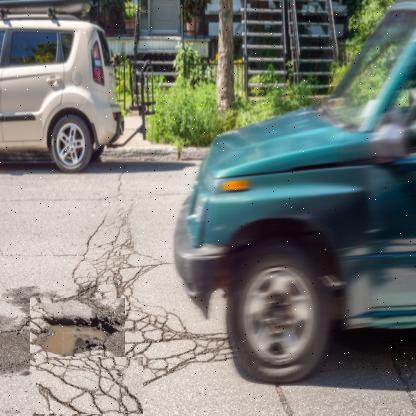crack: (115, 288, 202, 398), (36, 357, 144, 415)
pothole: (30, 298, 126, 370)
